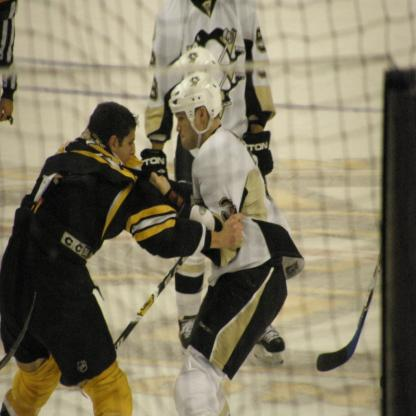Helmet: (167, 70, 219, 149), (167, 47, 230, 98)
